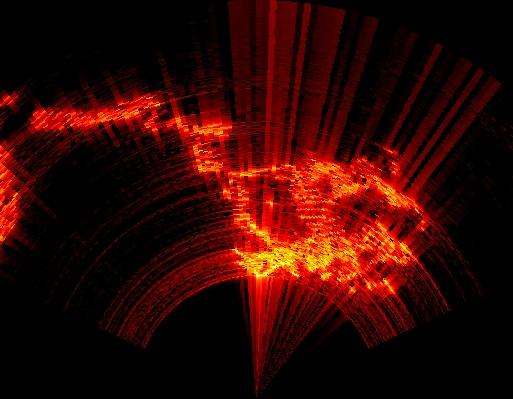shipwreck: (31, 95, 419, 291)
